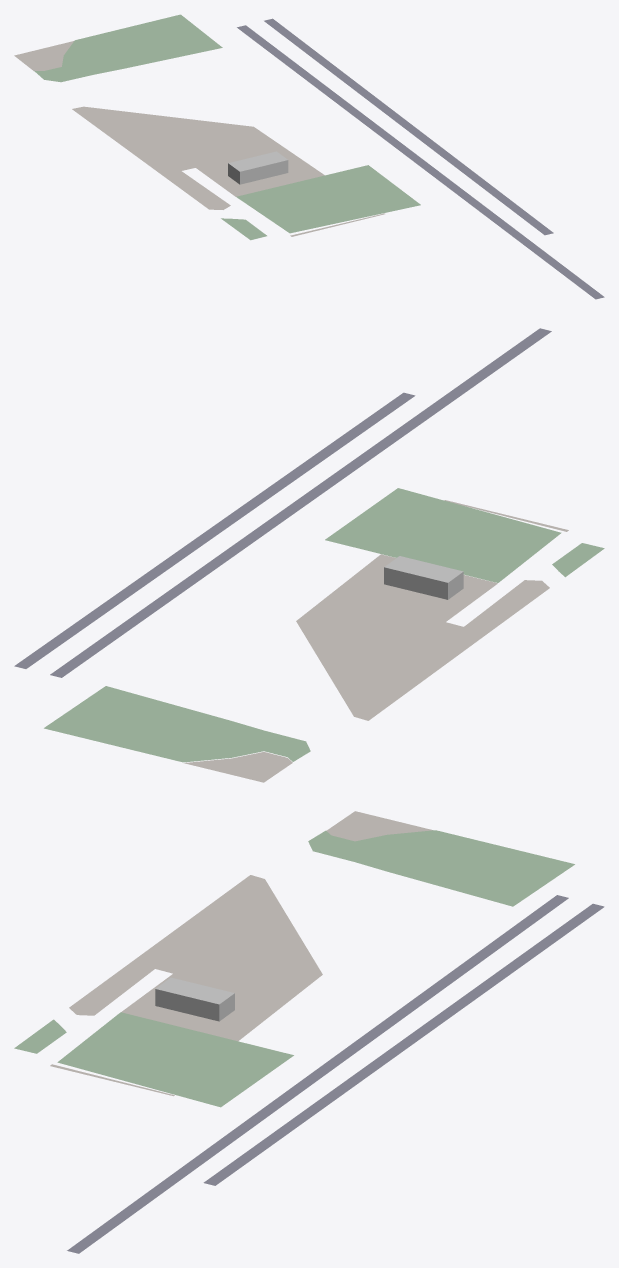
The model's file is 128_71_mid.glb.
3 renders of one model, top to bottom at view 1: azimuth 30°, elevation 25°; view 2: azimuth 150°, elevation 25°; view 3: azimuth 330°, elevation 25°, orthographic. The views are drawn at different scales.
Size of the model in its own units: 266 by 14.91 by 786.
